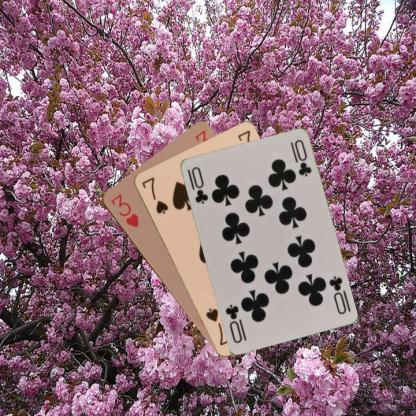10c: (326, 272, 352, 316), (188, 164, 210, 205)
3h: (107, 191, 140, 229)
7s: (139, 174, 169, 215)
